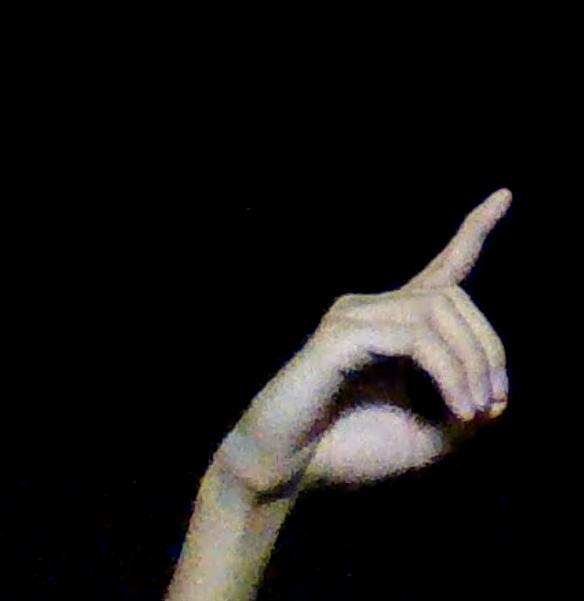d: (239, 184, 513, 488)
